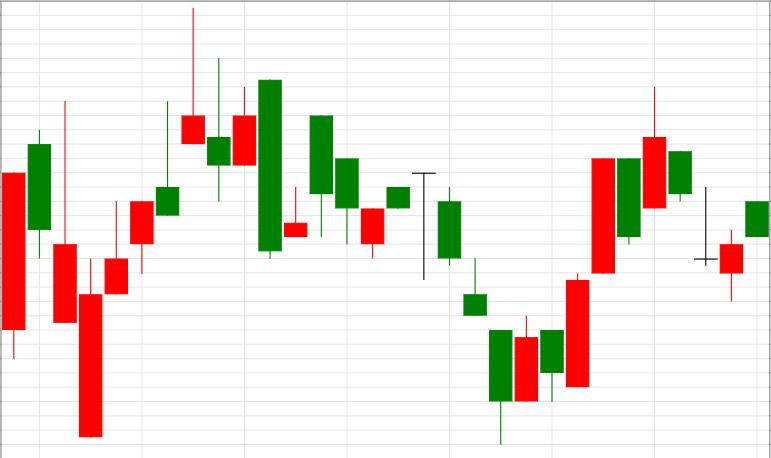shooting_star_fall: (79, 7, 205, 436)
